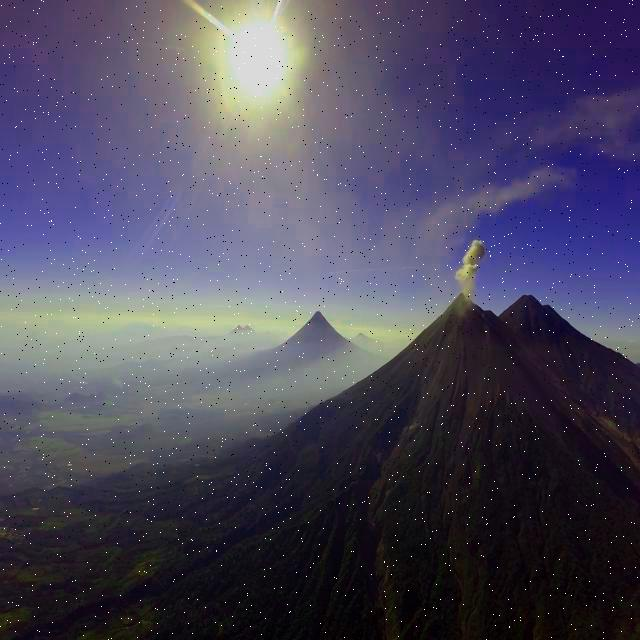Plume: (454, 238, 486, 296)
Summit: (446, 291, 482, 312)
